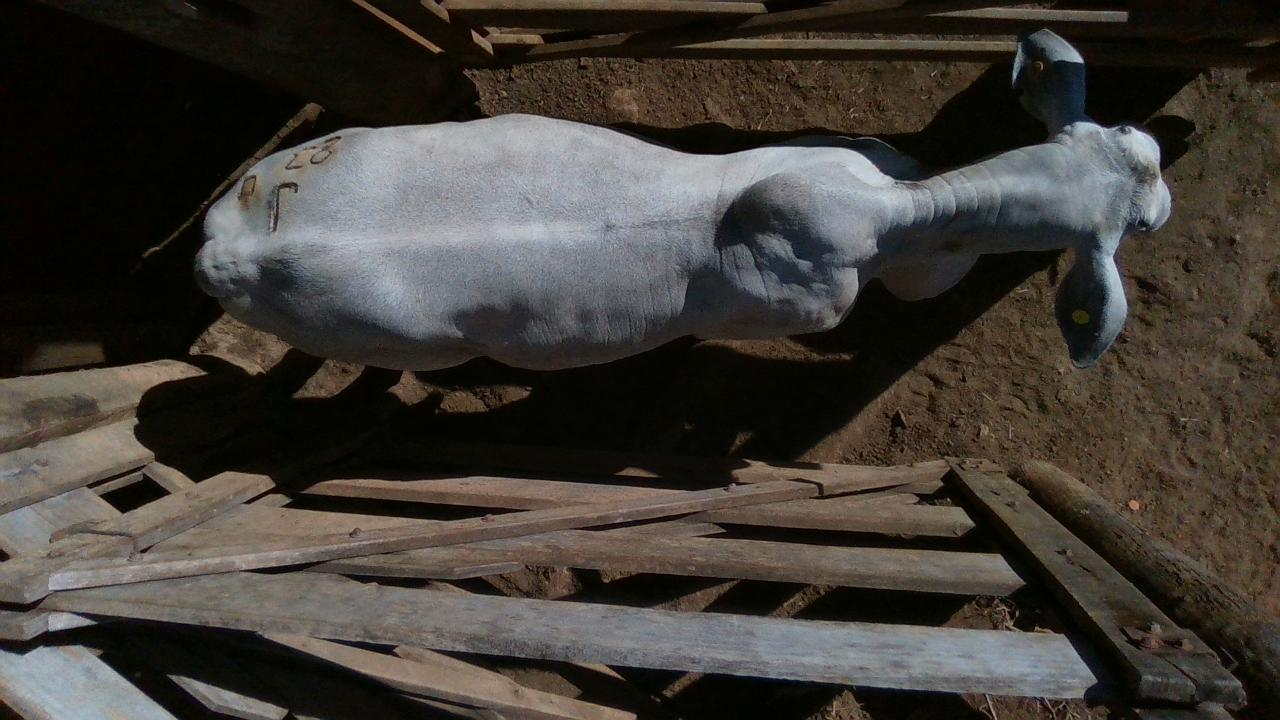cattle: (191, 26, 1173, 374)
